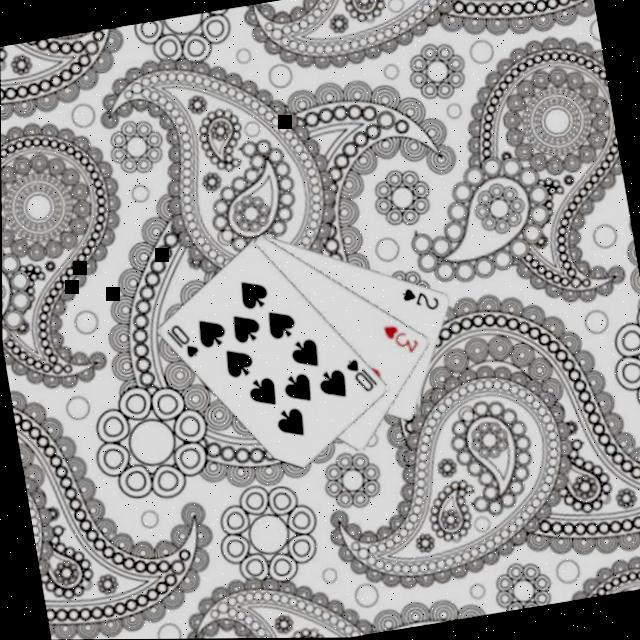10S: (161, 317, 201, 363), (340, 352, 380, 397)
2S: (396, 280, 441, 316)
3H: (378, 317, 421, 359)
